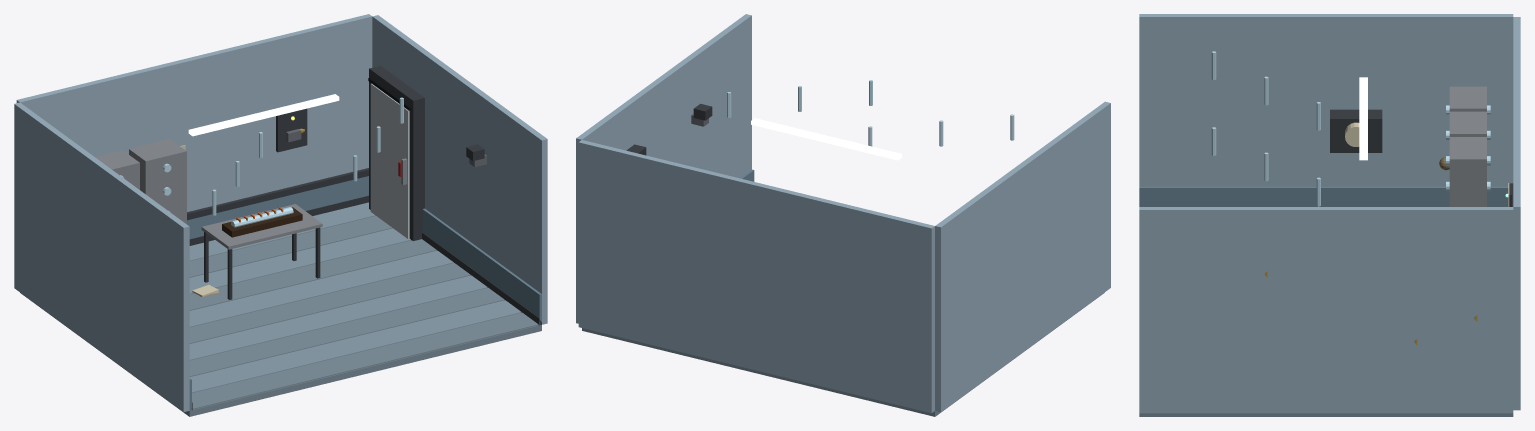
Rendered from cold_store.glb.
The picture shows the model from 3 angles, left to right: view 1: azimuth 30°, elevation 25°; view 2: azimuth 150°, elevation 25°; view 3: azimuth 270°, elevation 25°; orthographic projection. The views are drawn at different scales.
Parts seen in each view (by area): view 1: WallBack, WallLeft, WallRight, Plank0, Plank1, Plank2, Plank3, Door, Plank4, Plank5, Plank6, Plank7 (+15 smaller); view 2: WallBack, WallLeft, WallRight, Floor, StripLight; view 3: WallRight, WallLeft, BandLeft, WallBack, RackFrame2, Recorder, Floor, RackFrame0, RackFrame1, StripLight.
Boxes of the visible parts, <box> form: WallBack: <box>16,14,372,211</box>; WallLeft: <box>14,102,189,411</box>; WallRight: <box>372,15,547,324</box>; Plank0: <box>192,312,538,409</box>; Plank1: <box>189,300,521,392</box>; Plank2: <box>189,287,504,376</box>; Plank3: <box>189,275,487,360</box>; Door: <box>370,83,409,238</box>; Plank4: <box>189,263,470,343</box>; Plank5: <box>189,250,453,327</box>; Plank6: <box>189,239,436,310</box>; Plank7: <box>189,228,410,294</box>; WallBack: <box>578,140,934,413</box>; WallLeft: <box>935,101,1110,411</box>; WallRight: <box>576,14,751,323</box>; Floor: <box>582,292,1104,416</box>; StripLight: <box>751,118,901,160</box>; WallRight: <box>1139,207,1513,413</box>; WallLeft: <box>1139,14,1513,186</box>; BandLeft: <box>1139,186,1508,206</box>; WallBack: <box>1513,17,1520,410</box>; RackFrame2: <box>1449,137,1486,206</box>; Recorder: <box>1330,109,1382,152</box>; Floor: <box>1139,413,1513,416</box>; RackFrame0: <box>1449,86,1486,111</box>; RackFrame1: <box>1449,111,1486,136</box>; StripLight: <box>1359,77,1367,160</box>.
Size of the model in its own units: 6.21 by 3.1 by 5.1.
